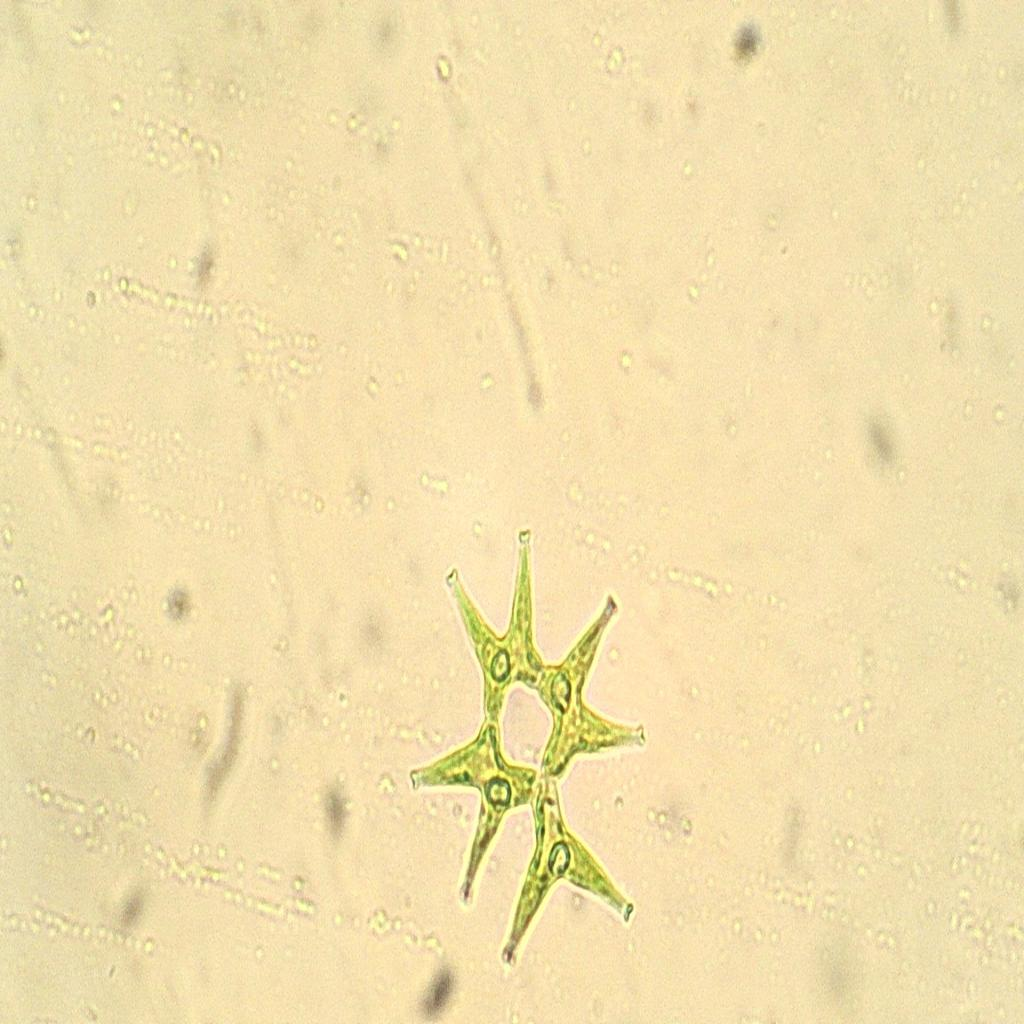Pediastrum_75FI: (402, 488, 658, 971)
